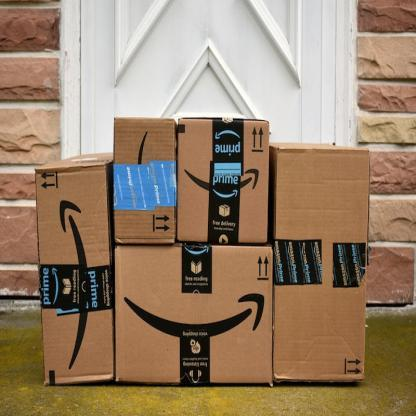package: (271, 135, 372, 386), (113, 242, 273, 384), (39, 151, 112, 396), (175, 113, 271, 244), (112, 112, 177, 244)
